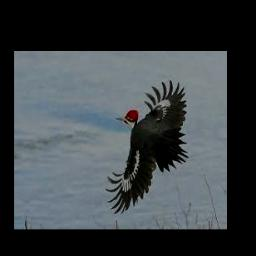Woodpecker: (105, 79, 189, 213)
